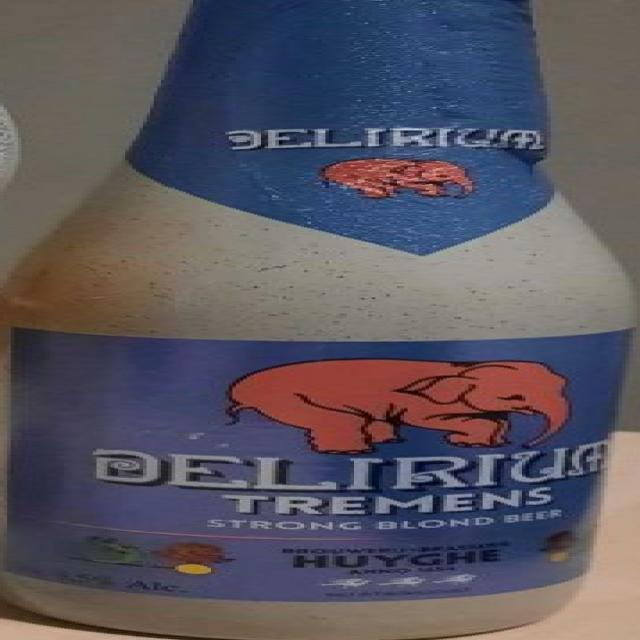Delirium Tremens: (3, 0, 640, 640)
